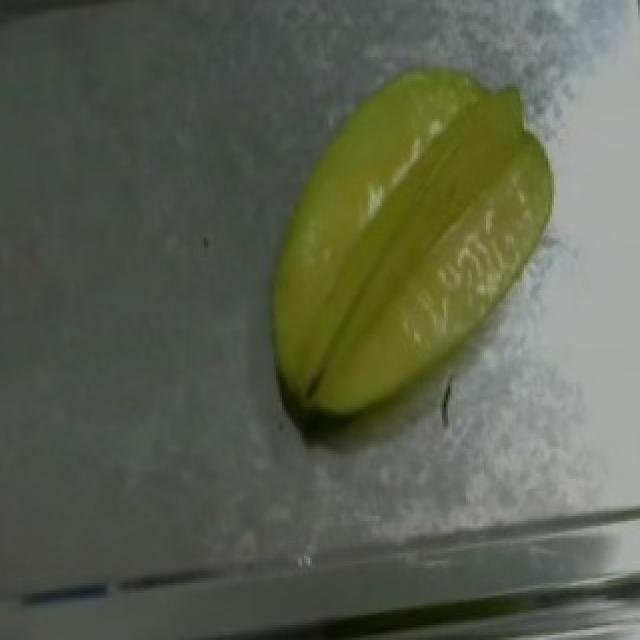fruit: (252, 42, 582, 407)
